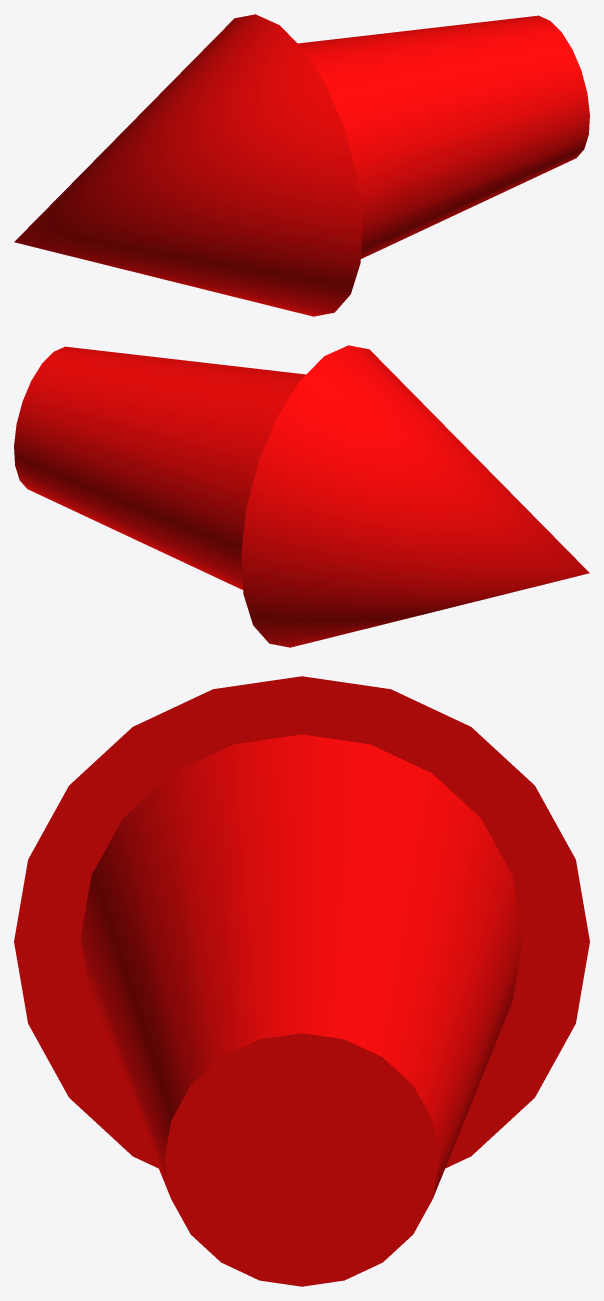
The model's file is fleche1.1.fbx.
3 views of the same model, one above another, from view 1: azimuth 30°, elevation 25°; view 2: azimuth 150°, elevation 25°; view 3: azimuth 270°, elevation 25° (orthographic). The views are drawn at different scales.
Visible parts, largest first — view 1: flecche, pCylinder2; view 2: flecche, pCylinder2; view 3: pCylinder2, flecche.
Part boxes in pixels (x1,y1,x2,y2): flecche: (14, 14, 362, 316); pCylinder2: (298, 15, 589, 258); flecche: (241, 345, 589, 647); pCylinder2: (14, 346, 305, 589); pCylinder2: (80, 734, 523, 1286); flecche: (14, 676, 589, 1168).
Bounding box in the file's own units: 4 × 2 × 2.
